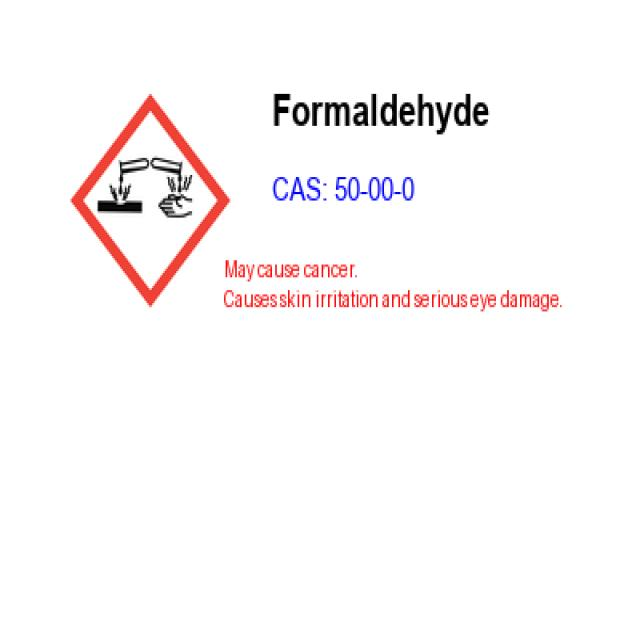cas number: (267, 168, 426, 222)
chemical name: (268, 83, 500, 158)
corrosive: (74, 103, 230, 308)
warning text: (217, 255, 576, 336)
